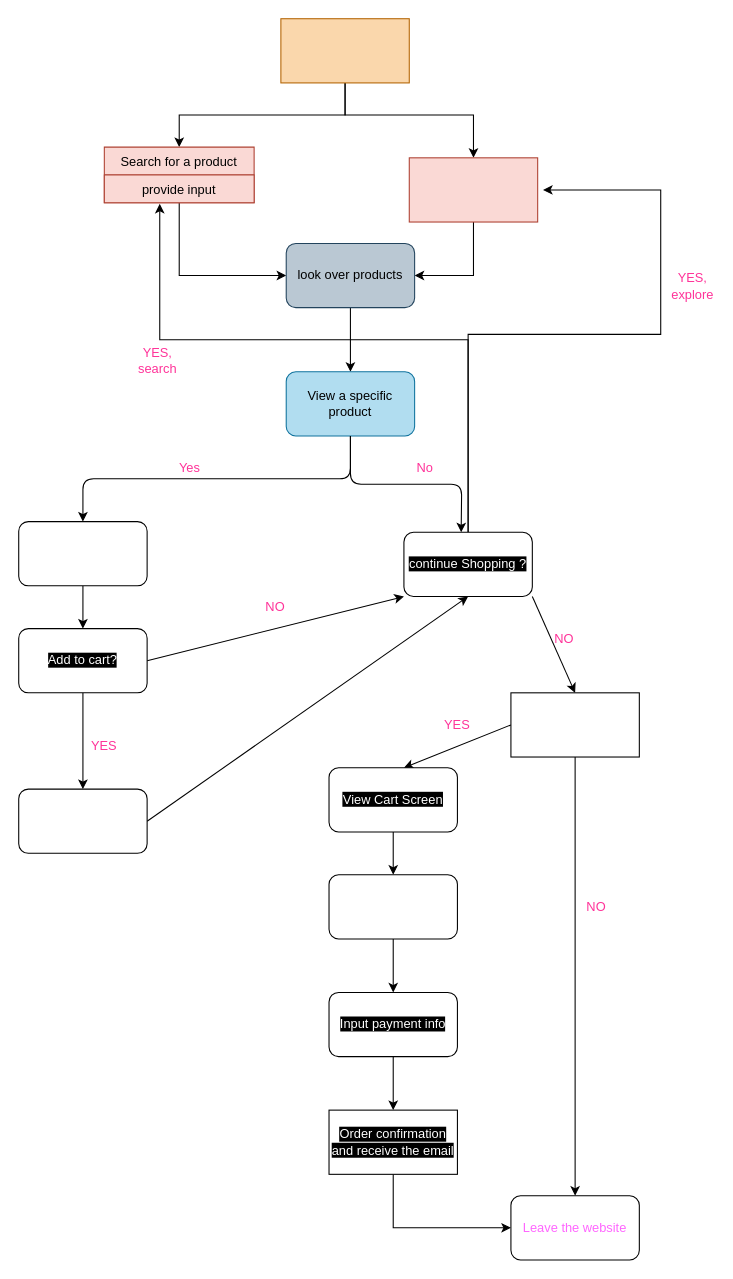
This 733x1279 diagram has some shape labels left out. The centre of each missing label's shape, as x and y in pixels:
Add to cart confirmation: point 82,820
Checkout?: point 574,724
Enter the website: point 344,50
Explore products: point 473,189
View Payment Screen: point 392,906
